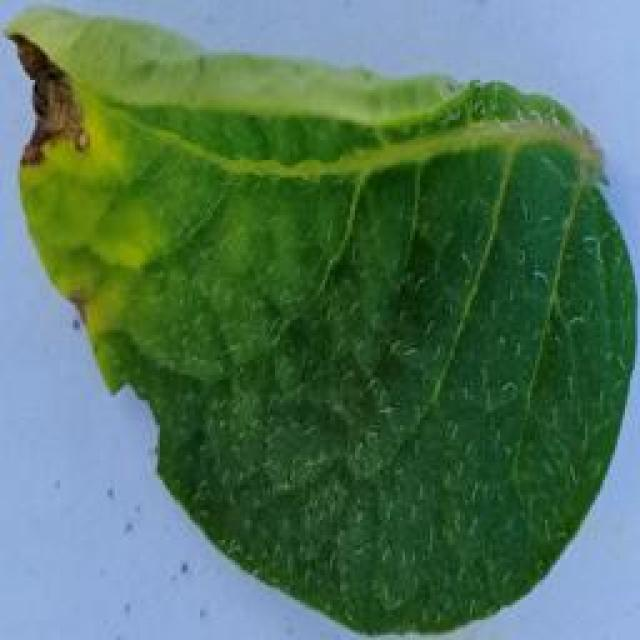Potato_Late_Blight: (5, 2, 640, 630)
